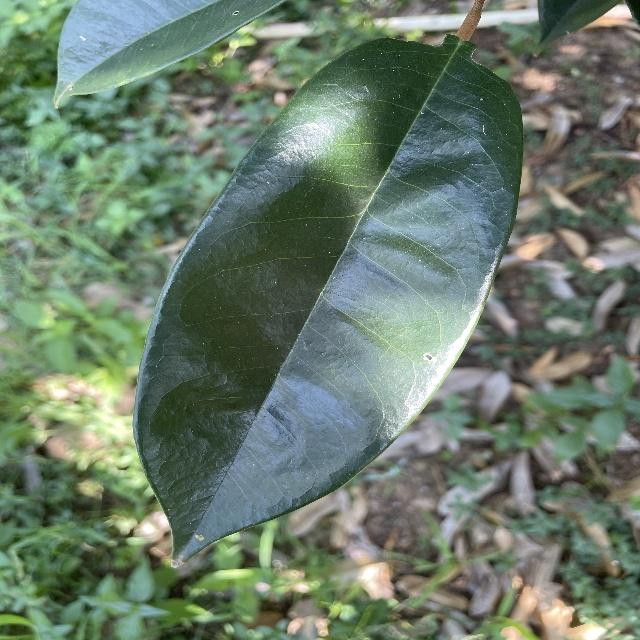No Disease: (123, 25, 533, 579)
